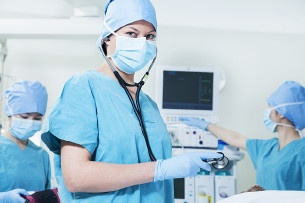Mask: (111, 22, 161, 72)
